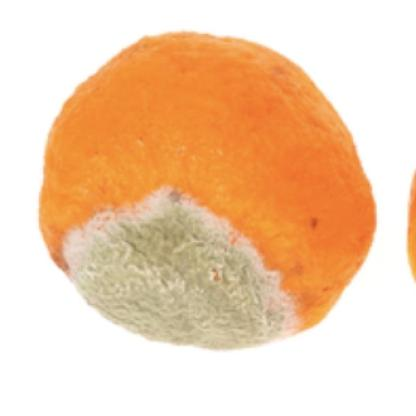rotten: (41, 29, 377, 345)
